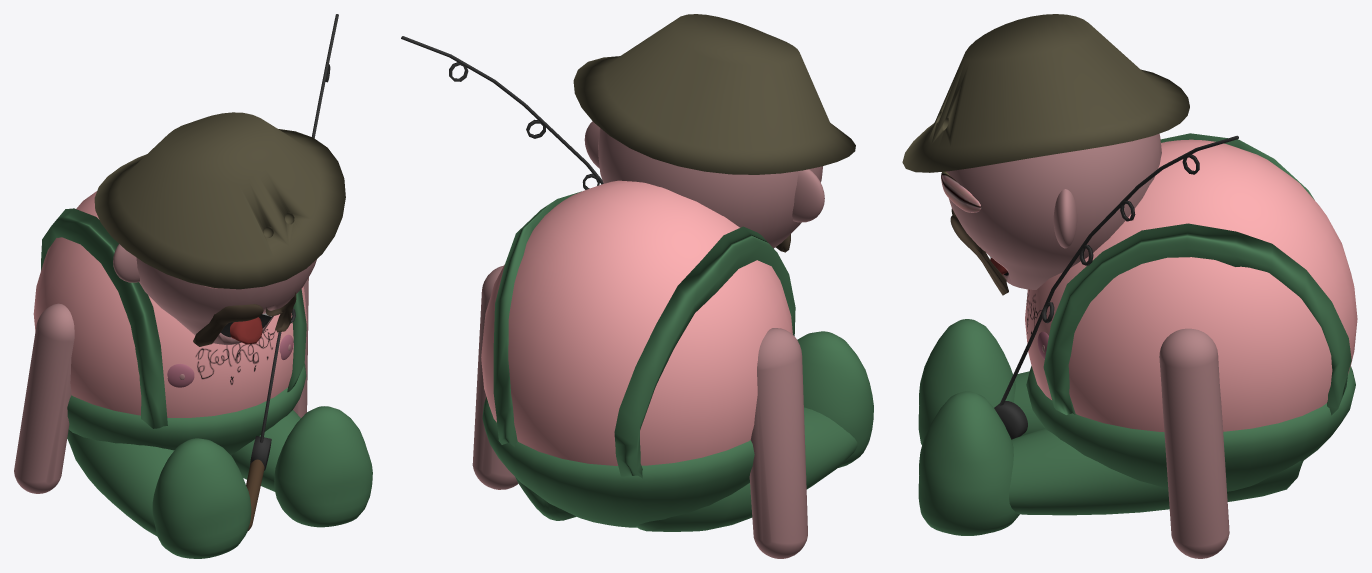
The model's file is angler.fbx.
3 views of the same model, side by side, from view 1: azimuth 30°, elevation 25°; view 2: azimuth 150°, elevation 25°; view 3: azimuth 270°, elevation 25° (orthographic). The views are drawn at different scales.
Visible parts, largest first — view 1: Hat, Body, Foot_R, Foot_L, Arm_R, Body_001, Hosentr_ger_R, Head, Leg_R, Angel, Leg_L, Beard_R (+6 smaller); view 2: Body, Hat, Body_001, Arm_R, Hosentr_ger_R, Head, Foot_R, Leg_R, Hosentr_ger_L, Arm_L, Ohr_R, Angel (+1 smaller); view 3: Body, Hat, Head, Hosentr_ger_L, Arm_L, Body_001, Foot_L, Leg_L, Foot_R, Angel, Ohr_L, Beard_L (+4 smaller).
Part boxes in pixels (bbox=[...]): Hat: bbox=[94, 112, 345, 289]; Body: bbox=[33, 191, 307, 417]; Foot_R: bbox=[152, 438, 251, 558]; Foot_L: bbox=[274, 406, 372, 527]; Arm_R: bbox=[14, 303, 74, 493]; Body_001: bbox=[67, 364, 306, 455]; Hosentr_ger_R: bbox=[41, 208, 167, 428]; Head: bbox=[136, 257, 316, 344]; Leg_R: bbox=[67, 429, 174, 536]; Angel: bbox=[246, 14, 338, 530]; Leg_L: bbox=[231, 410, 300, 491]; Beard_R: bbox=[193, 304, 263, 346]; Body: bbox=[481, 180, 792, 465]; Hat: bbox=[573, 14, 855, 174]; Body_001: bbox=[482, 397, 754, 527]; Arm_R: bbox=[749, 328, 807, 558]; Hosentr_ger_R: bbox=[614, 226, 795, 478]; Head: bbox=[598, 128, 822, 248]; Foot_R: bbox=[797, 331, 873, 467]; Leg_R: bbox=[636, 407, 857, 531]; Hosentr_ger_L: bbox=[493, 191, 581, 446]; Arm_L: bbox=[472, 265, 518, 489]; Ohr_R: bbox=[792, 169, 824, 222]; Angel: bbox=[401, 36, 603, 184]; Body: bbox=[1025, 139, 1357, 431]; Hat: bbox=[902, 14, 1189, 172]; Head: bbox=[946, 133, 1161, 289]; Hosentr_ger_L: bbox=[1043, 223, 1351, 415]; Arm_L: bbox=[1159, 328, 1229, 558]; Body_001: bbox=[1026, 366, 1355, 491]; Foot_L: bbox=[918, 391, 1019, 535]; Leg_L: bbox=[1009, 428, 1303, 515]; Foot_R: bbox=[918, 319, 1015, 444]; Angel: bbox=[994, 135, 1238, 439]; Ohr_L: bbox=[1053, 189, 1077, 248]; Beard_L: bbox=[950, 215, 1008, 295].
Size of the model in its own units: 1051 by 1167 by 1036.
